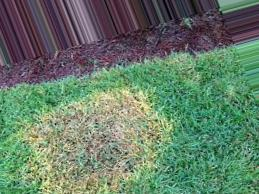patch: (52, 127, 99, 174), (109, 109, 140, 165), (68, 110, 99, 128), (66, 177, 98, 193)
